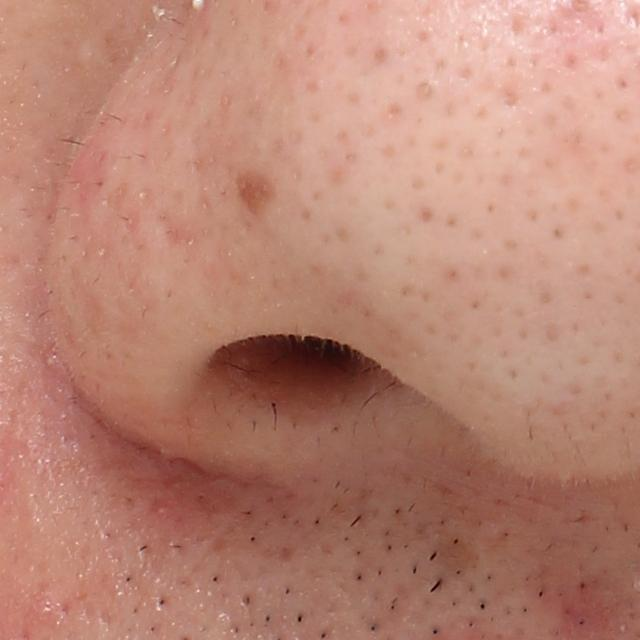nevus: (227, 162, 280, 232)
